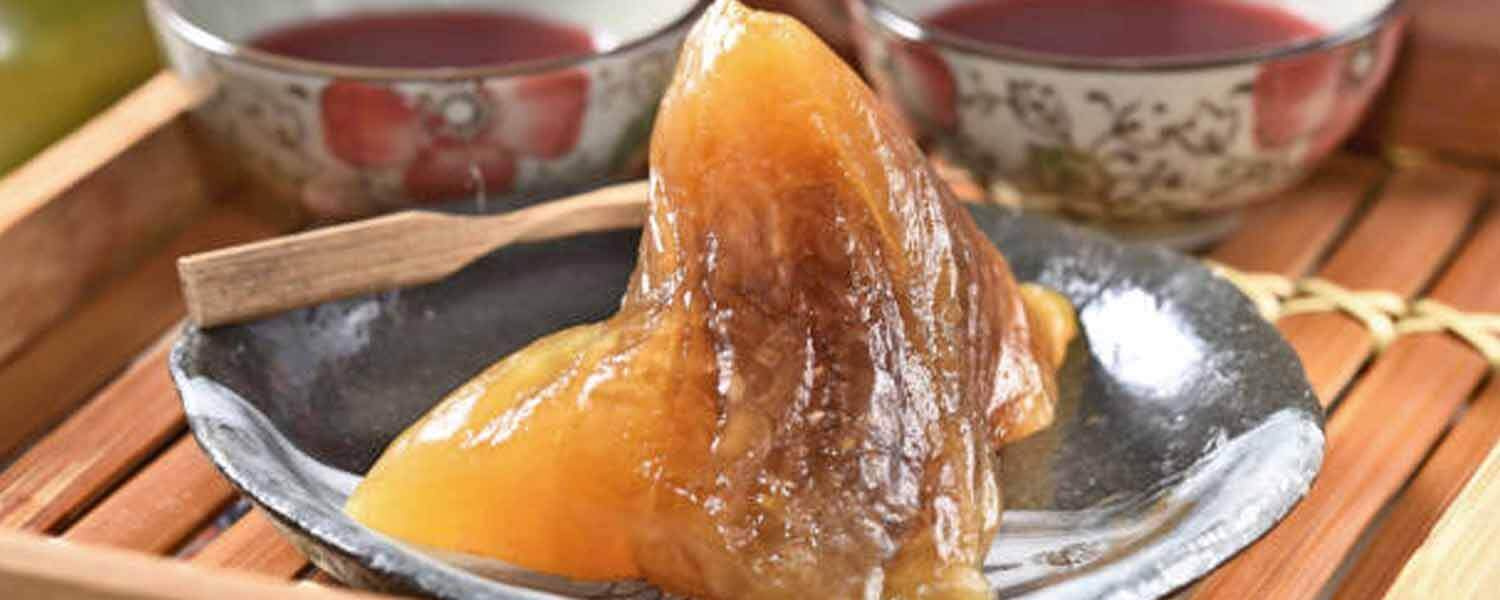zongzi: (346, 0, 1072, 599)
